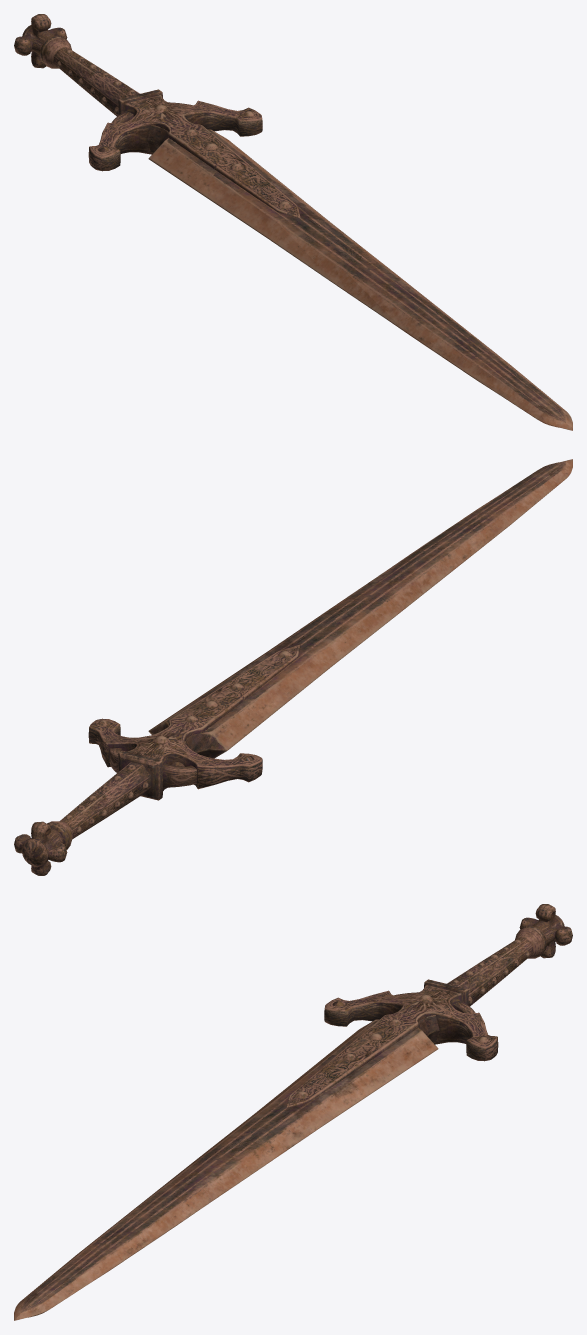
Rendered from ordovissgreatsword.fbx.
3 views of the same model, one above another, from view 1: azimuth 30°, elevation 25°; view 2: azimuth 150°, elevation 25°; view 3: azimuth 330°, elevation 25° (orthographic).
Visible parts, largest first — view 1: WP_A_0613; view 2: WP_A_0613; view 3: WP_A_0613.
Part boxes in pixels (<box>): WP_A_0613: <box>14,14,572,430</box>; WP_A_0613: <box>14,459,572,875</box>; WP_A_0613: <box>14,904,572,1320</box>.
Bounding box in the file's own units: 27.58 × 8.23 × 154.
1 material, 1 textured.
